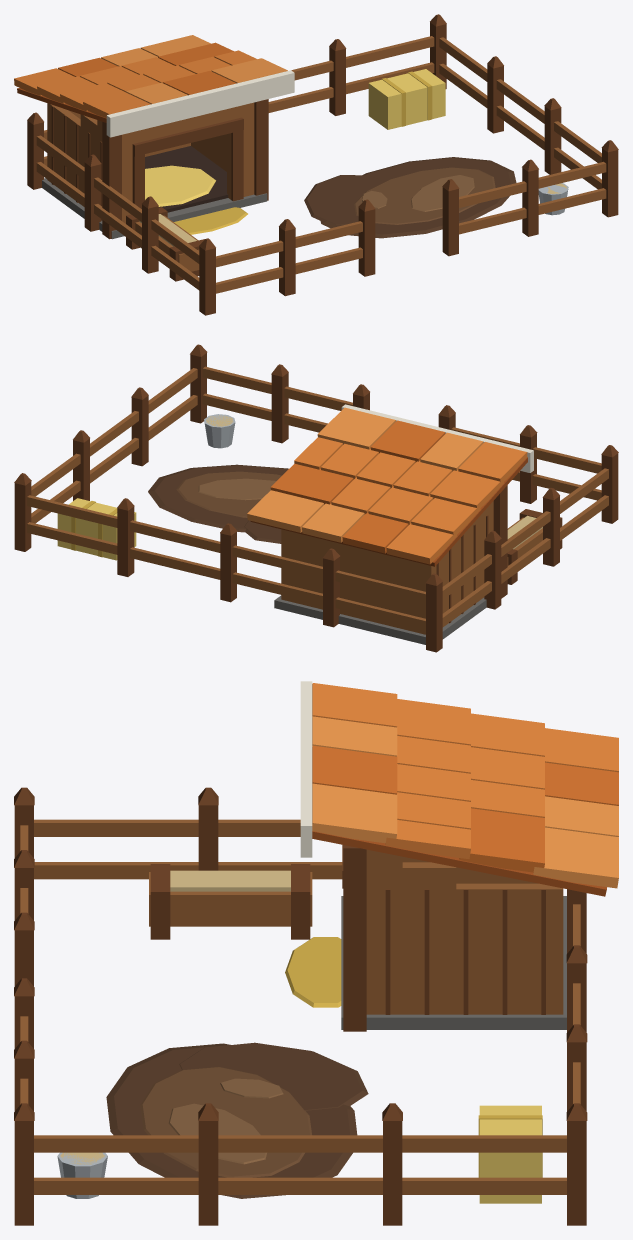
Rendered from pigsty.glb.
3 renders of one model, top to bottom at view 1: azimuth 30°, elevation 25°; view 2: azimuth 150°, elevation 25°; view 3: azimuth 270°, elevation 25°, orthographic. The views are drawn at different scales.
Parts seen in each view (by area): view 1: Sty_Fence, Sty_Hut, Sty_Roof, Sty_Props; view 2: Sty_Fence, Sty_Roof, Sty_Hut, Sty_Props; view 3: Sty_Roof, Sty_Fence, Sty_Props, Sty_Hut.
Boxes of the visible parts, bbox=[...] form: Sty_Fence: bbox=[27, 14, 618, 315]; Sty_Hut: bbox=[42, 99, 268, 239]; Sty_Roof: bbox=[14, 35, 294, 137]; Sty_Props: bbox=[126, 69, 568, 281]; Sty_Fence: bbox=[14, 344, 618, 652]; Sty_Roof: bbox=[247, 404, 533, 566]; Sty_Hut: bbox=[274, 485, 507, 644]; Sty_Props: bbox=[57, 414, 562, 584]; Sty_Roof: bbox=[300, 681, 618, 896]; Sty_Fence: bbox=[14, 787, 587, 1225]; Sty_Props: bbox=[57, 864, 542, 1203]; Sty_Hut: bbox=[285, 845, 566, 1031].
Size of the model in its own units: 4 by 1.23 by 3.11.
